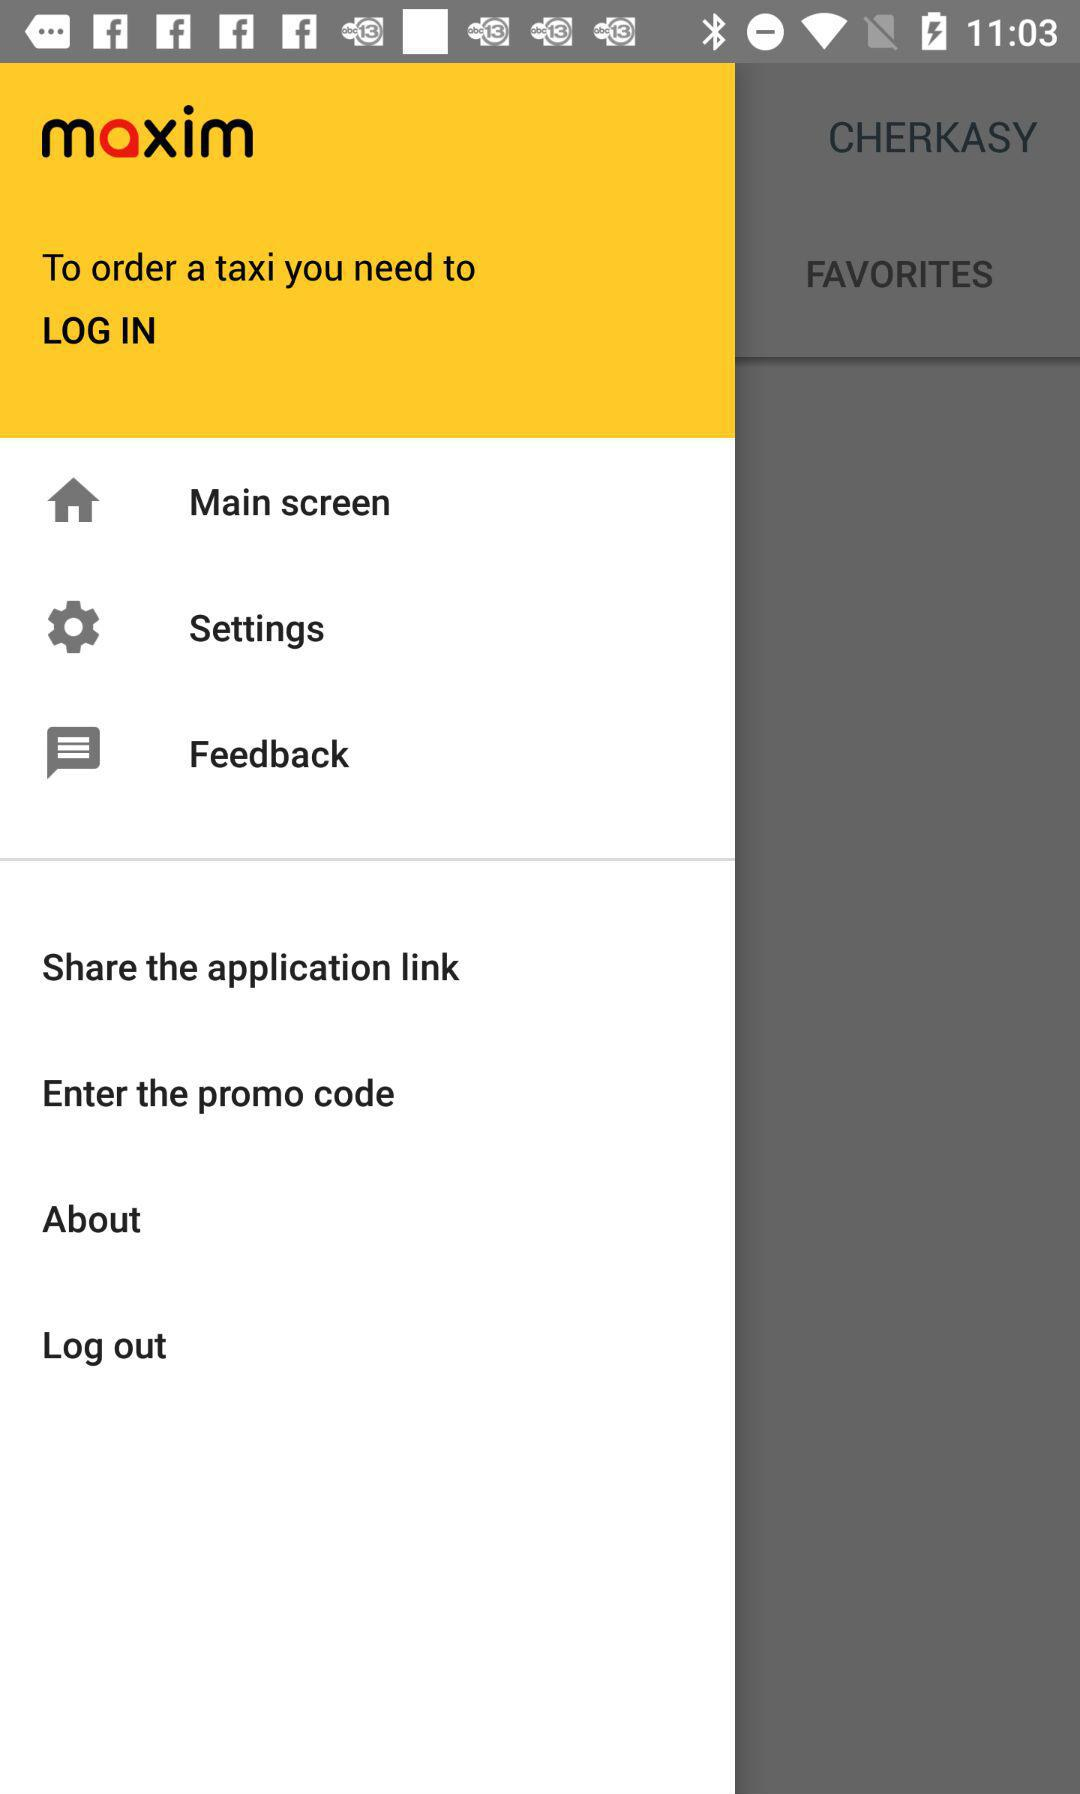Drawer: (1, 64, 735, 1794)
Icon: (47, 600, 101, 655), (47, 727, 102, 780), (47, 477, 101, 524)
Image: (41, 104, 255, 160)
Text: (42, 251, 477, 292), (42, 951, 461, 991), (44, 1076, 396, 1116), (190, 486, 392, 518), (829, 123, 1038, 154), (190, 738, 352, 771), (806, 261, 992, 290), (190, 613, 325, 651), (44, 1331, 168, 1369), (44, 315, 158, 346), (42, 1203, 143, 1235)
UpperTaskBar: (1, 1, 1080, 64)
